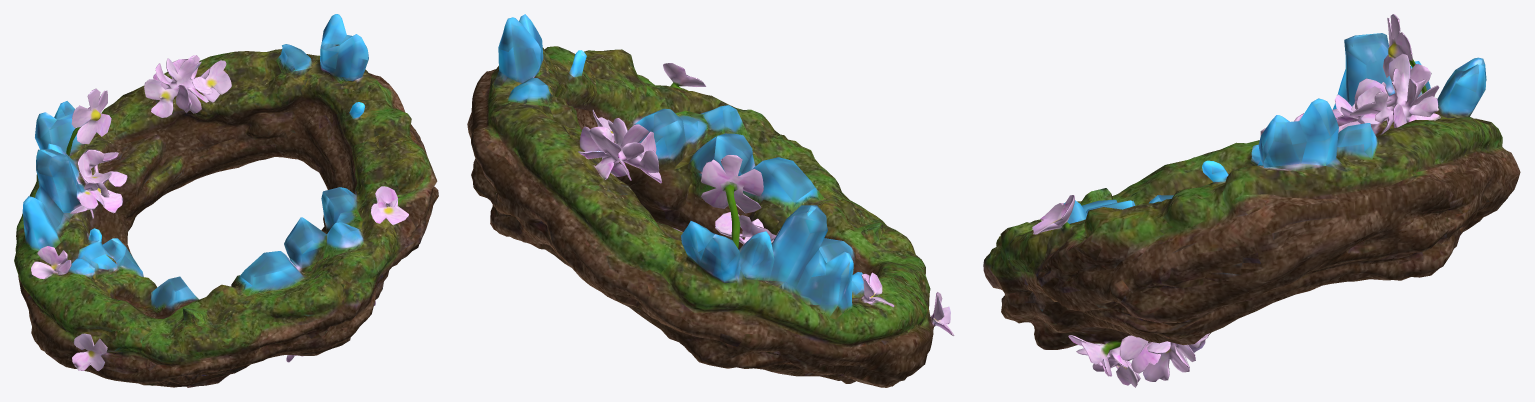
Rendered from couronne.glb.
3 views of the same model, side by side, from view 1: azimuth 30°, elevation 25°; view 2: azimuth 150°, elevation 25°; view 3: azimuth 270°, elevation 25° (orthographic). The views are drawn at different scales.
Parts seen in each view (by area): view 1: tripo_node_6429a75d.002; view 2: tripo_node_6429a75d.002; view 3: tripo_node_6429a75d.002.
Boxes of the visible parts, box(x1,y1,x2,y2) form: tripo_node_6429a75d.002: box(14, 14, 438, 387); tripo_node_6429a75d.002: box(467, 14, 954, 387); tripo_node_6429a75d.002: box(983, 14, 1520, 387).
Size of the model in its own units: 15.33 by 11.14 by 14.41.
1 material, 1 textured.
